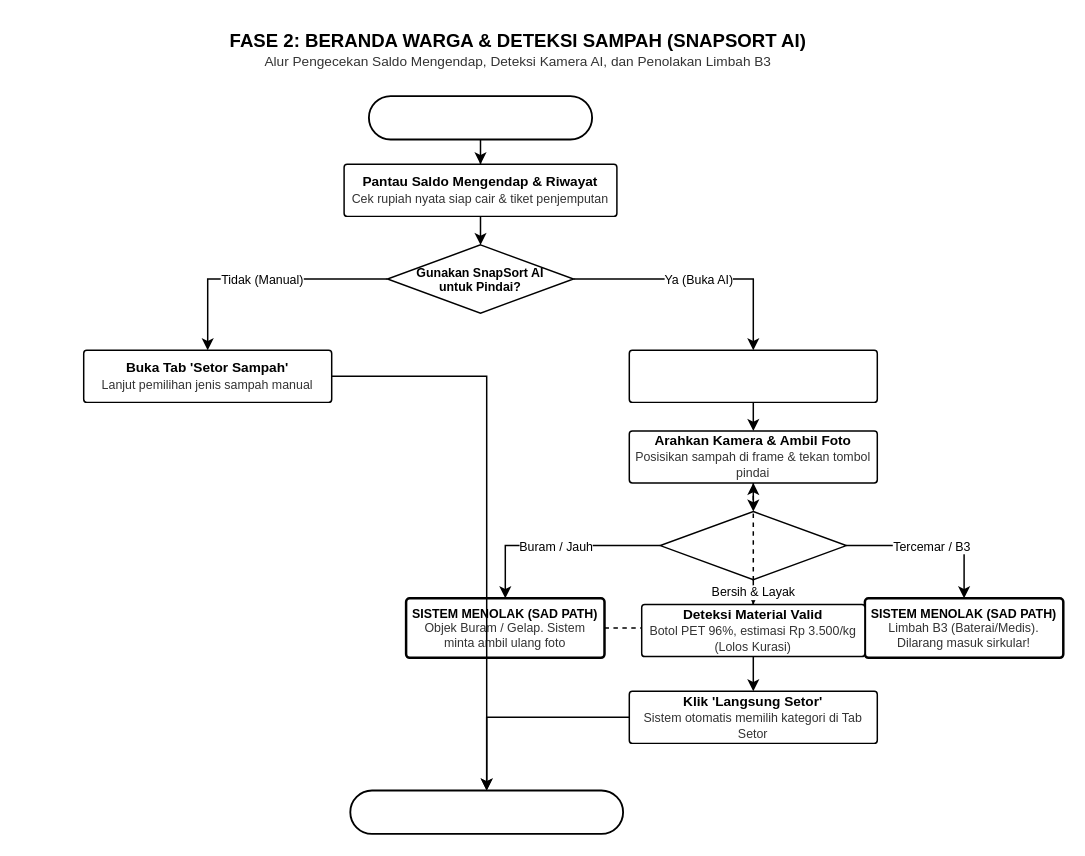
The diagram is 1085 pixels wide and 856 high, and some of its shapes have lost their labels. The centre of each missing label's shape, as x and y in pixels:
Buka Tab 'SnapSort AI' Akses antarmuka kamera pengenal jenis sampah: [752,376]
Hasil Analisis Material AI?: [752,545]
Mulai: Beranda Warga: [479,117]
Selesai: Menuju Halaman Setor Sampah: [486,811]
